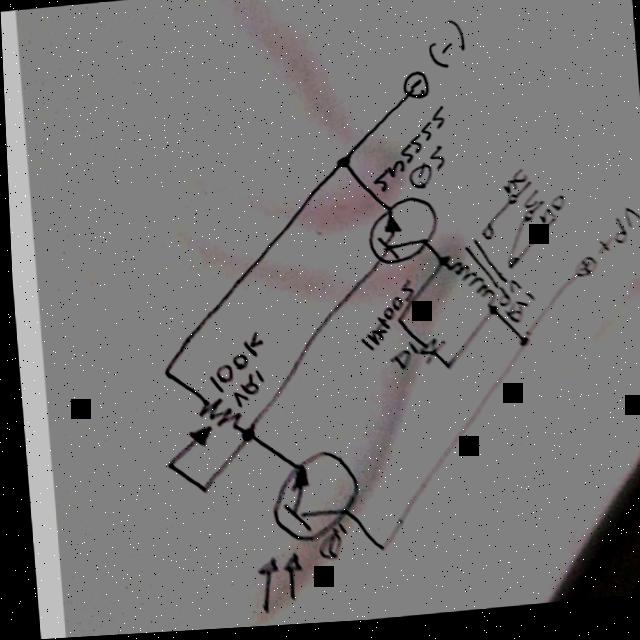diode: (411, 340, 445, 371)
junction: (191, 484, 206, 499), (433, 259, 448, 274), (389, 317, 404, 332), (482, 308, 497, 323), (236, 431, 251, 445), (159, 459, 173, 474), (156, 368, 171, 382), (333, 160, 348, 174), (512, 342, 527, 356), (370, 545, 384, 559), (437, 364, 451, 378)
resistor: (179, 396, 241, 452)
terminal: (399, 74, 430, 107), (568, 262, 597, 287), (544, 221, 556, 232), (532, 206, 544, 216), (521, 185, 533, 195)
text: (364, 109, 452, 200), (199, 334, 267, 412), (352, 282, 414, 355), (591, 212, 640, 263), (424, 23, 469, 76), (401, 150, 447, 197), (493, 284, 533, 331), (309, 525, 348, 567), (382, 346, 415, 376), (534, 201, 564, 232), (499, 174, 526, 202), (519, 195, 538, 215)
transistor: (241, 450, 364, 621), (361, 198, 440, 273)
